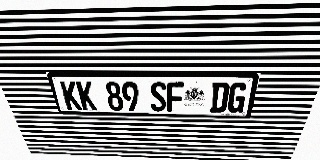8: (104, 81, 124, 110)
9: (121, 81, 140, 111)
D: (209, 82, 230, 112)
F: (167, 82, 184, 112)
G: (226, 82, 249, 113)
K: (59, 81, 82, 110), (76, 81, 97, 110)
S: (149, 82, 167, 111)
